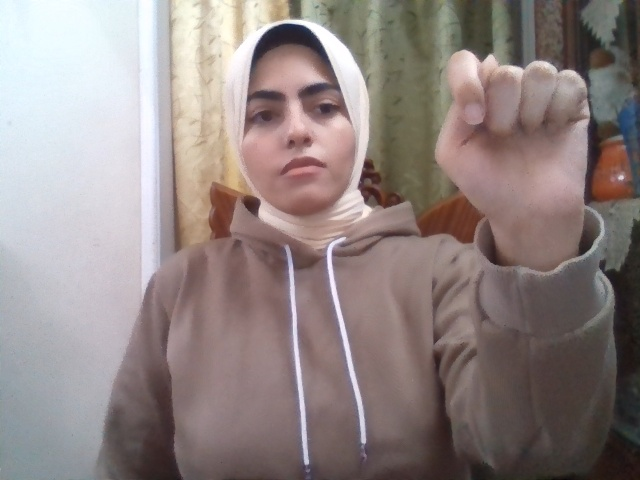T: (435, 51, 589, 219)
